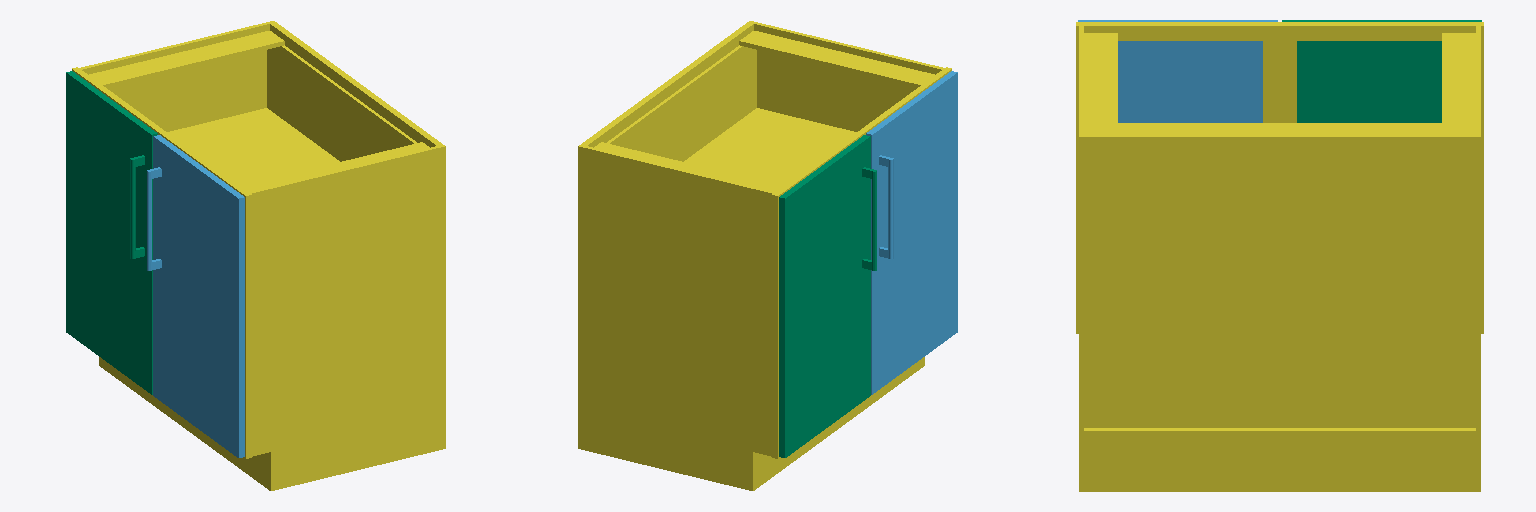
URDF robot description (partnet_21f3c0d4604587b4da5feafe6f1c8fc):
<?xml version="1.0" ?>
<robot name="partnet_21f3c0d4604587b4da5feafe6f1c8fc">
	<link name="base"/>
	<link name="link_0">
		<visual name="cabinet_door_surface-10">
			<origin xyz="-0.6864633732831515 -0.6367499828338625 -0.4538667972764191"/>
			<geometry>
				<mesh filename="package://objects_description/45420/textured_objs/original-31.obj"/>
			</geometry>
		</visual>
		<visual name="handle-11">
			<origin xyz="-0.6864633732831515 -0.6367499828338625 -0.4538667972764191"/>
			<geometry>
				<mesh filename="package://objects_description/45420/textured_objs/original-33.obj"/>
			</geometry>
		</visual>
		<visual name="handle-11">
			<origin xyz="-0.6864633732831515 -0.6367499828338625 -0.4538667972764191"/>
			<geometry>
				<mesh filename="package://objects_description/45420/textured_objs/original-35.obj"/>
			</geometry>
		</visual>
		<visual name="handle-11">
			<origin xyz="-0.6864633732831515 -0.6367499828338625 -0.4538667972764191"/>
			<geometry>
				<mesh filename="package://objects_description/45420/textured_objs/original-34.obj"/>
			</geometry>
		</visual>
		<collision>
			<origin xyz="-0.6864633732831515 -0.6367499828338625 -0.4538667972764191"/>
			<geometry>
				<mesh filename="package://objects_description/45420/textured_objs/original-31.obj"/>
			</geometry>
		</collision>
		<collision>
			<origin xyz="-0.6864633732831515 -0.6367499828338625 -0.4538667972764191"/>
			<geometry>
				<mesh filename="package://objects_description/45420/textured_objs/original-33.obj"/>
			</geometry>
		</collision>
		<collision>
			<origin xyz="-0.6864633732831515 -0.6367499828338625 -0.4538667972764191"/>
			<geometry>
				<mesh filename="package://objects_description/45420/textured_objs/original-35.obj"/>
			</geometry>
		</collision>
		<collision>
			<origin xyz="-0.6864633732831515 -0.6367499828338625 -0.4538667972764191"/>
			<geometry>
				<mesh filename="package://objects_description/45420/textured_objs/original-34.obj"/>
			</geometry>
		</collision>
	</link>
	<joint name="joint_0" type="revolute">
		<origin xyz="0.6864633732831515 0.6367499828338625 0.4538667972764191"/>
		<axis xyz="0 1 0"/>
		<child link="link_0"/>
		<parent link="link_2"/>
		<limit lower="0.0" upper="1.6022122533307945"/>
	</joint>
	<link name="link_1">
		<visual name="cabinet_door_surface-8">
			<origin xyz="0.6441316048736573 0.48602798581123374 -0.4534843984788899"/>
			<geometry>
				<mesh filename="package://objects_description/45420/textured_objs/original-25.obj"/>
			</geometry>
		</visual>
		<visual name="handle-9">
			<origin xyz="0.6441316048736573 0.48602798581123374 -0.4534843984788899"/>
			<geometry>
				<mesh filename="package://objects_description/45420/textured_objs/original-27.obj"/>
			</geometry>
		</visual>
		<visual name="handle-9">
			<origin xyz="0.6441316048736573 0.48602798581123374 -0.4534843984788899"/>
			<geometry>
				<mesh filename="package://objects_description/45420/textured_objs/original-29.obj"/>
			</geometry>
		</visual>
		<visual name="handle-9">
			<origin xyz="0.6441316048736573 0.48602798581123374 -0.4534843984788899"/>
			<geometry>
				<mesh filename="package://objects_description/45420/textured_objs/original-28.obj"/>
			</geometry>
		</visual>
		<collision>
			<origin xyz="0.6441316048736573 0.48602798581123374 -0.4534843984788899"/>
			<geometry>
				<mesh filename="package://objects_description/45420/textured_objs/original-25.obj"/>
			</geometry>
		</collision>
		<collision>
			<origin xyz="0.6441316048736573 0.48602798581123374 -0.4534843984788899"/>
			<geometry>
				<mesh filename="package://objects_description/45420/textured_objs/original-27.obj"/>
			</geometry>
		</collision>
		<collision>
			<origin xyz="0.6441316048736573 0.48602798581123374 -0.4534843984788899"/>
			<geometry>
				<mesh filename="package://objects_description/45420/textured_objs/original-29.obj"/>
			</geometry>
		</collision>
		<collision>
			<origin xyz="0.6441316048736573 0.48602798581123374 -0.4534843984788899"/>
			<geometry>
				<mesh filename="package://objects_description/45420/textured_objs/original-28.obj"/>
			</geometry>
		</collision>
	</link>
	<joint name="joint_1" type="revolute">
		<origin xyz="-0.6441316048736573 -0.48602798581123374 0.4534843984788899"/>
		<axis xyz="0 -0.9999999999999999 0"/>
		<child link="link_1"/>
		<parent link="link_2"/>
		<limit lower="0.0" upper="1.6022122533307945"/>
	</joint>
	<link name="link_2">
		<visual name="shelf-4">
			<origin xyz="0 0 0"/>
			<geometry>
				<mesh filename="package://objects_description/45420/textured_objs/original-2.obj"/>
			</geometry>
		</visual>
		<visual name="shelf-5">
			<origin xyz="0 0 0"/>
			<geometry>
				<mesh filename="package://objects_description/45420/textured_objs/original-23.obj"/>
			</geometry>
		</visual>
		<visual name="frame_vertical_bar-22">
			<origin xyz="0 0 0"/>
			<geometry>
				<mesh filename="package://objects_description/45420/textured_objs/original-4.obj"/>
			</geometry>
		</visual>
		<visual name="frame_vertical_bar-23">
			<origin xyz="0 0 0"/>
			<geometry>
				<mesh filename="package://objects_description/45420/textured_objs/original-18.obj"/>
			</geometry>
		</visual>
		<visual name="frame_vertical_bar-24">
			<origin xyz="0 0 0"/>
			<geometry>
				<mesh filename="package://objects_description/45420/textured_objs/original-8.obj"/>
			</geometry>
		</visual>
		<visual name="frame_horizontal_bar-25">
			<origin xyz="0 0 0"/>
			<geometry>
				<mesh filename="package://objects_description/45420/textured_objs/original-9.obj"/>
			</geometry>
		</visual>
		<visual name="frame_horizontal_bar-26">
			<origin xyz="0 0 0"/>
			<geometry>
				<mesh filename="package://objects_description/45420/textured_objs/original-7.obj"/>
			</geometry>
		</visual>
		<visual name="back_panel-29">
			<origin xyz="0 0 0"/>
			<geometry>
				<mesh filename="package://objects_description/45420/textured_objs/original-6.obj"/>
			</geometry>
		</visual>
		<visual name="bottom_panel-30">
			<origin xyz="0 0 0"/>
			<geometry>
				<mesh filename="package://objects_description/45420/textured_objs/original-3.obj"/>
			</geometry>
		</visual>
		<visual name="vertical_side_panel-31">
			<origin xyz="0 0 0"/>
			<geometry>
				<mesh filename="package://objects_description/45420/textured_objs/original-12.obj"/>
			</geometry>
		</visual>
		<visual name="vertical_side_panel-31">
			<origin xyz="0 0 0"/>
			<geometry>
				<mesh filename="package://objects_description/45420/textured_objs/original-11.obj"/>
			</geometry>
		</visual>
		<visual name="vertical_side_panel-32">
			<origin xyz="0 0 0"/>
			<geometry>
				<mesh filename="package://objects_description/45420/textured_objs/original-16.obj"/>
			</geometry>
		</visual>
		<visual name="vertical_side_panel-32">
			<origin xyz="0 0 0"/>
			<geometry>
				<mesh filename="package://objects_description/45420/textured_objs/original-15.obj"/>
			</geometry>
		</visual>
		<visual name="frame_horizontal_bar-33">
			<origin xyz="0 0 0"/>
			<geometry>
				<mesh filename="package://objects_description/45420/textured_objs/original-22.obj"/>
			</geometry>
		</visual>
		<visual name="frame_horizontal_bar-34">
			<origin xyz="0 0 0"/>
			<geometry>
				<mesh filename="package://objects_description/45420/textured_objs/original-21.obj"/>
			</geometry>
		</visual>
		<visual name="other_leaf-36">
			<origin xyz="0 0 0"/>
			<geometry>
				<mesh filename="package://objects_description/45420/textured_objs/original-36.obj"/>
			</geometry>
		</visual>
		<visual name="frame_horizontal_bar-38">
			<origin xyz="0 0 0"/>
			<geometry>
				<mesh filename="package://objects_description/45420/textured_objs/original-5.obj"/>
			</geometry>
		</visual>
		<visual name="base_side_panel-13">
			<origin xyz="0 0 0"/>
			<geometry>
				<mesh filename="package://objects_description/45420/textured_objs/original-19.obj"/>
			</geometry>
		</visual>
		<visual name="base_side_panel-14">
			<origin xyz="0 0 0"/>
			<geometry>
				<mesh filename="package://objects_description/45420/textured_objs/original-13.obj"/>
			</geometry>
		</visual>
		<visual name="base_side_panel-15">
			<origin xyz="0 0 0"/>
			<geometry>
				<mesh filename="package://objects_description/45420/textured_objs/original-20.obj"/>
			</geometry>
		</visual>
		<visual name="base_side_panel-16">
			<origin xyz="0 0 0"/>
			<geometry>
				<mesh filename="package://objects_description/45420/textured_objs/original-17.obj"/>
			</geometry>
		</visual>
		<collision>
			<origin xyz="0 0 0"/>
			<geometry>
				<mesh filename="package://objects_description/45420/textured_objs/original-2.obj"/>
			</geometry>
		</collision>
		<collision>
			<origin xyz="0 0 0"/>
			<geometry>
				<mesh filename="package://objects_description/45420/textured_objs/original-23.obj"/>
			</geometry>
		</collision>
		<collision>
			<origin xyz="0 0 0"/>
			<geometry>
				<mesh filename="package://objects_description/45420/textured_objs/original-4.obj"/>
			</geometry>
		</collision>
		<collision>
			<origin xyz="0 0 0"/>
			<geometry>
				<mesh filename="package://objects_description/45420/textured_objs/original-18.obj"/>
			</geometry>
		</collision>
		<collision>
			<origin xyz="0 0 0"/>
			<geometry>
				<mesh filename="package://objects_description/45420/textured_objs/original-8.obj"/>
			</geometry>
		</collision>
		<collision>
			<origin xyz="0 0 0"/>
			<geometry>
				<mesh filename="package://objects_description/45420/textured_objs/original-9.obj"/>
			</geometry>
		</collision>
		<collision>
			<origin xyz="0 0 0"/>
			<geometry>
				<mesh filename="package://objects_description/45420/textured_objs/original-7.obj"/>
			</geometry>
		</collision>
		<collision>
			<origin xyz="0 0 0"/>
			<geometry>
				<mesh filename="package://objects_description/45420/textured_objs/original-6.obj"/>
			</geometry>
		</collision>
		<collision>
			<origin xyz="0 0 0"/>
			<geometry>
				<mesh filename="package://objects_description/45420/textured_objs/original-3.obj"/>
			</geometry>
		</collision>
		<collision>
			<origin xyz="0 0 0"/>
			<geometry>
				<mesh filename="package://objects_description/45420/textured_objs/original-12.obj"/>
			</geometry>
		</collision>
		<collision>
			<origin xyz="0 0 0"/>
			<geometry>
				<mesh filename="package://objects_description/45420/textured_objs/original-11.obj"/>
			</geometry>
		</collision>
		<collision>
			<origin xyz="0 0 0"/>
			<geometry>
				<mesh filename="package://objects_description/45420/textured_objs/original-16.obj"/>
			</geometry>
		</collision>
		<collision>
			<origin xyz="0 0 0"/>
			<geometry>
				<mesh filename="package://objects_description/45420/textured_objs/original-15.obj"/>
			</geometry>
		</collision>
		<collision>
			<origin xyz="0 0 0"/>
			<geometry>
				<mesh filename="package://objects_description/45420/textured_objs/original-22.obj"/>
			</geometry>
		</collision>
		<collision>
			<origin xyz="0 0 0"/>
			<geometry>
				<mesh filename="package://objects_description/45420/textured_objs/original-21.obj"/>
			</geometry>
		</collision>
		<collision>
			<origin xyz="0 0 0"/>
			<geometry>
				<mesh filename="package://objects_description/45420/textured_objs/original-36.obj"/>
			</geometry>
		</collision>
		<collision>
			<origin xyz="0 0 0"/>
			<geometry>
				<mesh filename="package://objects_description/45420/textured_objs/original-5.obj"/>
			</geometry>
		</collision>
		<collision>
			<origin xyz="0 0 0"/>
			<geometry>
				<mesh filename="package://objects_description/45420/textured_objs/original-19.obj"/>
			</geometry>
		</collision>
		<collision>
			<origin xyz="0 0 0"/>
			<geometry>
				<mesh filename="package://objects_description/45420/textured_objs/original-13.obj"/>
			</geometry>
		</collision>
		<collision>
			<origin xyz="0 0 0"/>
			<geometry>
				<mesh filename="package://objects_description/45420/textured_objs/original-20.obj"/>
			</geometry>
		</collision>
		<collision>
			<origin xyz="0 0 0"/>
			<geometry>
				<mesh filename="package://objects_description/45420/textured_objs/original-17.obj"/>
			</geometry>
		</collision>
	</link>
	<joint name="joint_2" type="fixed">
		<origin rpy="1.570796326794897 0 -1.570796326794897" xyz="0 0 0"/>
		<child link="link_2"/>
		<parent link="base"/>
	</joint>
</robot>

--- What the picture shows (computed from the rendered views, not written in the file) ---
Views: 3 orthographic renders of the robot side by side, from view 1: azimuth 30°, elevation 25°; view 2: azimuth 150°, elevation 25°; view 3: azimuth 270°, elevation 25°.
Robot: partnet_21f3c0d4604587b4da5feafe6f1c8fc — 4 links, 3 joints (2 revolute, 1 fixed); root link base; default pose: all joints at 0.
Visible links, largest first — view 1: link_2, link_0, link_1; view 2: link_2, link_1, link_0; view 3: link_2, link_0, link_1.
Boxes of the visible links, bbox=[...] form: link_2: bbox=[72, 21, 445, 490]; link_0: bbox=[147, 135, 244, 457]; link_1: bbox=[66, 71, 157, 394]; link_2: bbox=[578, 21, 951, 490]; link_1: bbox=[779, 135, 876, 457]; link_0: bbox=[866, 71, 957, 394]; link_2: bbox=[1076, 22, 1483, 491]; link_0: bbox=[1078, 20, 1277, 122]; link_1: bbox=[1282, 20, 1481, 122].
Size in the robot's own frame: 0.9996 by 1.36 by 1.31 metres.
Meshes: 29 distinct files referenced, 29 mesh visuals loaded (29 OBJ).
